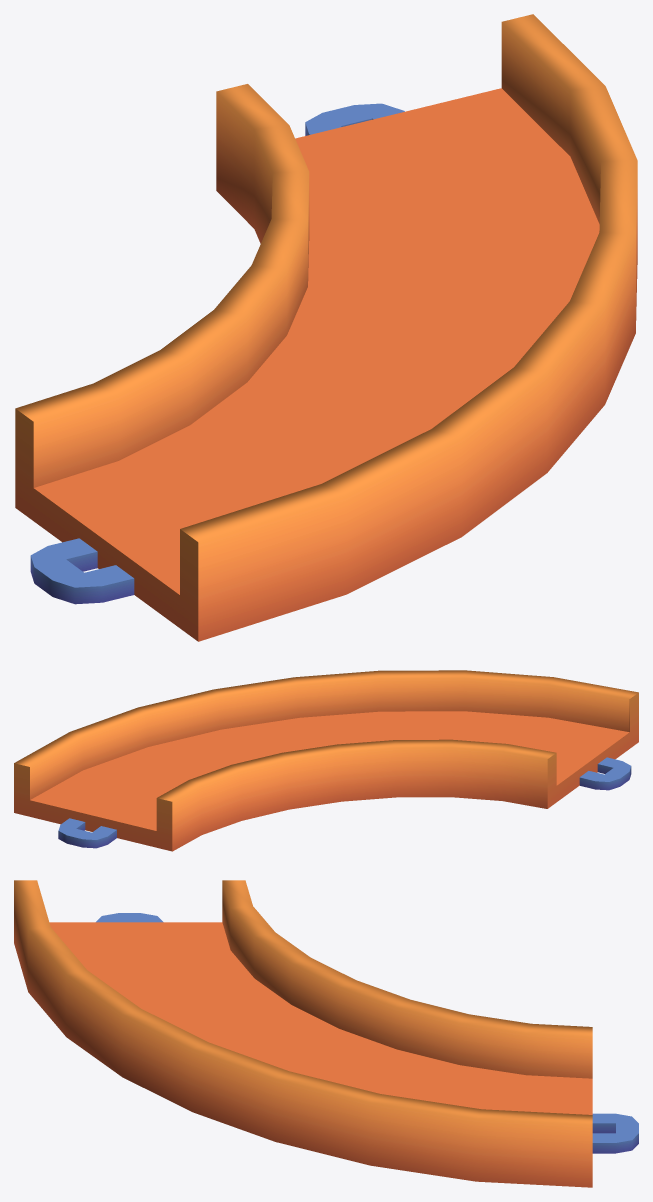
Rendered from track-narrow-corner-small.glb.
3 renders of one model, top to bottom at view 1: azimuth 30°, elevation 25°; view 2: azimuth 150°, elevation 25°; view 3: azimuth 270°, elevation 25°, orthographic. The views are drawn at different scales.
Parts seen in each view (by area): view 1: track-narrow-corner-small; view 2: track-narrow-corner-small; view 3: track-narrow-corner-small.
Part boxes in pixels (x1,y1,x2,y2): track-narrow-corner-small: (15, 14, 637, 641); track-narrow-corner-small: (14, 670, 638, 851); track-narrow-corner-small: (14, 880, 638, 1187).
Bounding box in the file's own units: 2.7 × 0.2999 × 2.7.
Materials: 1 (1 with a texture image).
